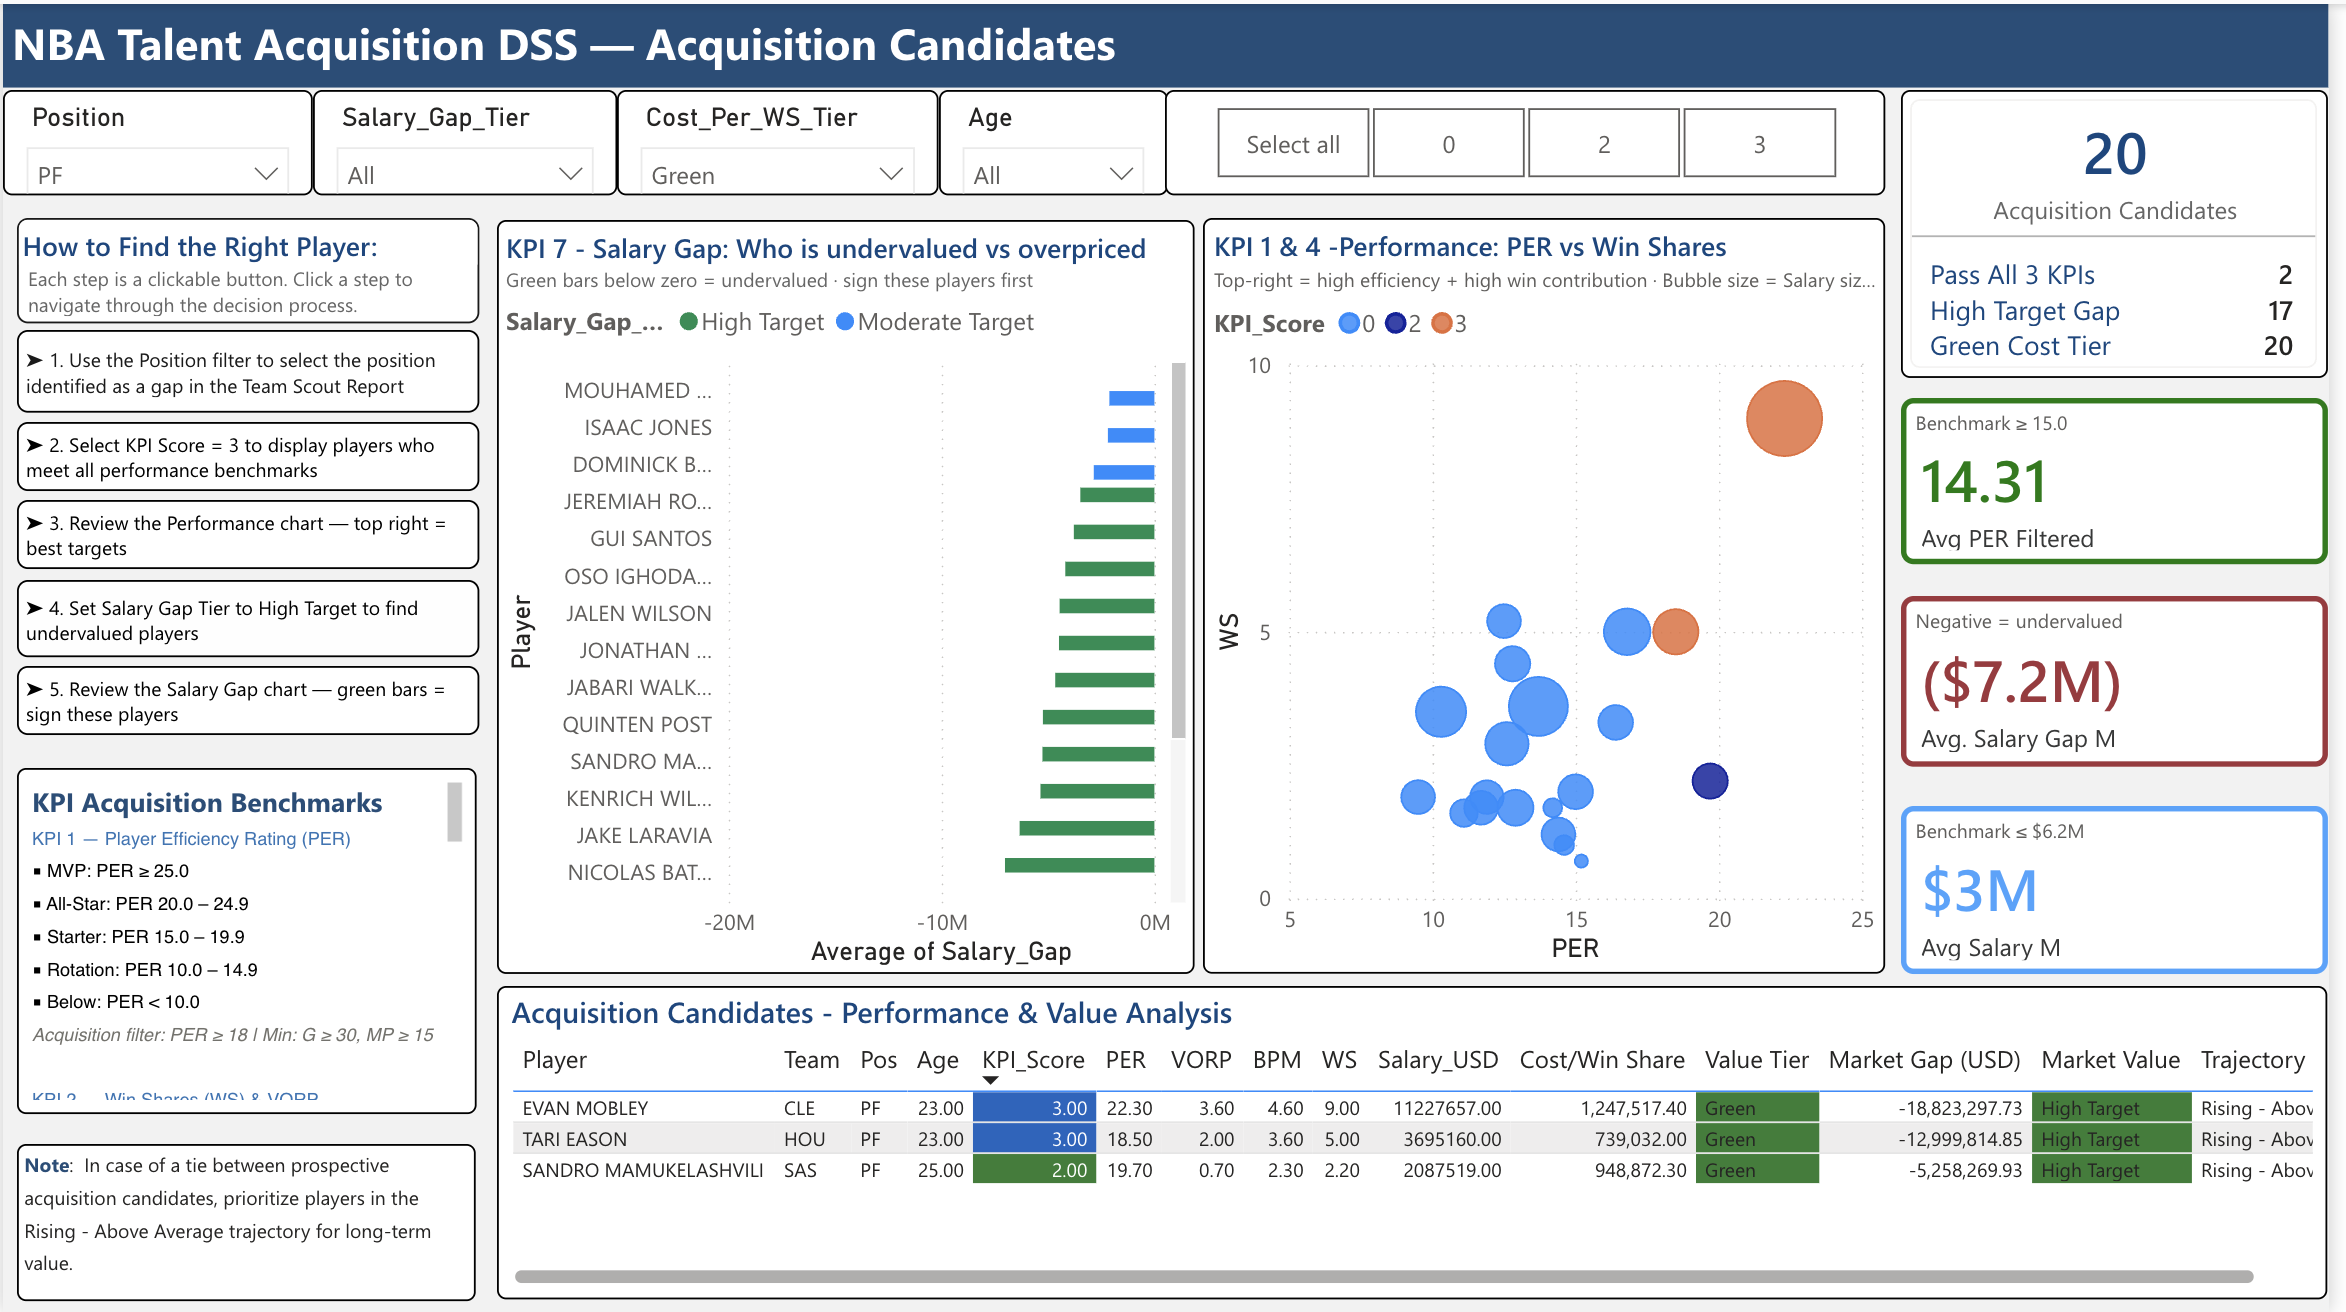

The page's visual inventory and layout, read from the dashboard file:
{"tool":"powerbi","page":{"name":"Acquisition Candidates","canvas":[1280,720],"ordinal":1},"visuals":[{"type":"textbox","box":[0,0,1280,46],"z":0},{"type":"slicer","fields":{"Values":["NBA_DSS_UnifiedDf.Pos"]},"box":[0,47.2,170.7,57.9],"z":1000},{"type":"slicer","fields":{"Values":["NBA_DSS_UnifiedDf.Age_Bucket"]},"box":[515,47.3,126.1,57.8],"z":2000},{"type":"slicer","fields":{"Values":["NBA_DSS_UnifiedDf.KPI_Score"]},"box":[640.1,47.3,396.3,57.8],"z":3000},{"type":"slicer","fields":{"Values":["NBA_DSS_UnifiedDf.Cost_Per_WS_Tier"]},"box":[338.3,47.2,176.8,57.9],"z":4000},{"type":"slicer","fields":{"Values":["NBA_DSS_UnifiedDf.Salary_Gap_Tier"]},"box":[170.7,47.2,167.6,57.9],"z":5000},{"type":"tableEx","title":"Acquisition Candidates - Performance & Value Analysis","fields":{"Values":["NBA_DSS_UnifiedDf.Player","NBA_DSS_UnifiedDf.Team","NBA_DSS_UnifiedDf.Pos","Avg(NBA_DSS_UnifiedDf.Age)","Avg(NBA_DSS_UnifiedDf.KPI_Score)","Avg(NBA_DSS_UnifiedDf.PER)","Avg(NBA_DSS_UnifiedDf.VORP)","Avg(NBA_DSS_UnifiedDf.BPM)","Avg(NBA_DSS_UnifiedDf.WS)","Avg(NBA_DSS_UnifiedDf.Salary_USD)","Avg(NBA_DSS_UnifiedDf.Cost_Per_WS)","NBA_DSS_UnifiedDf.Cost_Per_WS_Tier"]},"box":[272.3,540.8,1007.7,172.5],"z":6000},{"type":"textbox","box":[7.6,420.6,253,190.5],"z":7000},{"type":"clusteredBarChart","title":"KPI 7 - Salary Gap: Who is undervalued vs overpriced","fields":{"Category":["NBA_DSS_UnifiedDf.Player"],"Series":["NBA_DSS_UnifiedDf.Salary_Gap_Tier"],"Y":["Avg(NBA_DSS_UnifiedDf.Salary_Gap)"]},"box":[272.3,119.3,383.9,415],"z":8000},{"type":"scatterChart","title":"KPI 1 & 4 -Performance: PER vs Win Shares","fields":{"Series":["NBA_DSS_UnifiedDf.KPI_Score"],"Size":["Sum(NBA_DSS_UnifiedDf.Salary_USD)"],"X":["NBA_DSS_UnifiedDf.PER"],"Y":["NBA_DSS_UnifiedDf.WS"]},"box":[660.7,117.9,375.7,415.9],"z":9000},{"type":"actionButton","box":[7.6,179.8,254.5,45.7],"z":10000},{"type":"actionButton","box":[7.6,230.1,254.5,38.1],"z":11000},{"type":"actionButton","box":[7.6,272.8,254.5,38.1],"z":12000},{"type":"cardVisual","fields":{"Data":["NBA_DSS_UnifiedDf.Acquisition Candidates"]},"box":[1045.1,47,234.9,158.7],"z":13000},{"type":"actionButton","box":[7.6,317,254.5,42.7],"z":14000},{"type":"actionButton","box":[7.6,363.9,254.5,38.2],"z":15000},{"type":"textbox","box":[7.6,627.3,252.7,86.3],"z":16000},{"type":"cardVisual","fields":{"Data":["NBA_DSS_UnifiedDf.Avg PER Filtered"]},"box":[1045.1,217.1,234.9,91.4],"z":17000},{"type":"cardVisual","fields":{"Data":["NBA_DSS_UnifiedDf.Avg. Salary Gap M"]},"box":[1045.1,326.3,234.9,94],"z":18000},{"type":"cardVisual","fields":{"Data":["NBA_DSS_UnifiedDf.Avg Salary M"]},"box":[1045.1,441.9,234.9,92.7],"z":19000},{"type":"actionButton","title":"How to Find the Right Player: ","box":[7.6,117.3,254.5,57.9],"z":19001}]}

Visuals, with their boxes in screenshot pixels (x1, y1, x2, y2), scaled from the page's 1280x720 canvas onto the 2346x1312 screenshot:
textbox: region(0, 0, 2345, 84)
slicer - NBA_DSS_UnifiedDf.Pos: region(0, 86, 313, 192)
slicer - NBA_DSS_UnifiedDf.Age_Bucket: region(944, 86, 1175, 192)
slicer - NBA_DSS_UnifiedDf.KPI_Score: region(1173, 86, 1900, 192)
slicer - NBA_DSS_UnifiedDf.Cost_Per_WS_Tier: region(620, 86, 944, 192)
slicer - NBA_DSS_UnifiedDf.Salary_Gap_Tier: region(313, 86, 620, 192)
"Acquisition Candidates - Performance & Value Analysis" tableEx: region(499, 985, 2345, 1300)
textbox: region(14, 766, 478, 1114)
"KPI 7 - Salary Gap: Who is undervalued vs overpriced" clusteredBarChart: region(499, 217, 1203, 974)
"KPI 1 & 4 -Performance: PER vs Win Shares" scatterChart: region(1211, 215, 1900, 973)
actionButton: region(14, 328, 480, 411)
actionButton: region(14, 419, 480, 489)
actionButton: region(14, 497, 480, 567)
cardVisual - NBA_DSS_UnifiedDf.Acquisition Candidates: region(1915, 86, 2345, 375)
actionButton: region(14, 578, 480, 655)
actionButton: region(14, 663, 480, 733)
textbox: region(14, 1143, 477, 1300)
cardVisual - NBA_DSS_UnifiedDf.Avg PER Filtered: region(1915, 396, 2345, 562)
cardVisual - NBA_DSS_UnifiedDf.Avg. Salary Gap M: region(1915, 595, 2345, 766)
cardVisual - NBA_DSS_UnifiedDf.Avg Salary M: region(1915, 805, 2345, 974)
"How to Find the Right Player: " actionButton: region(14, 214, 480, 319)
